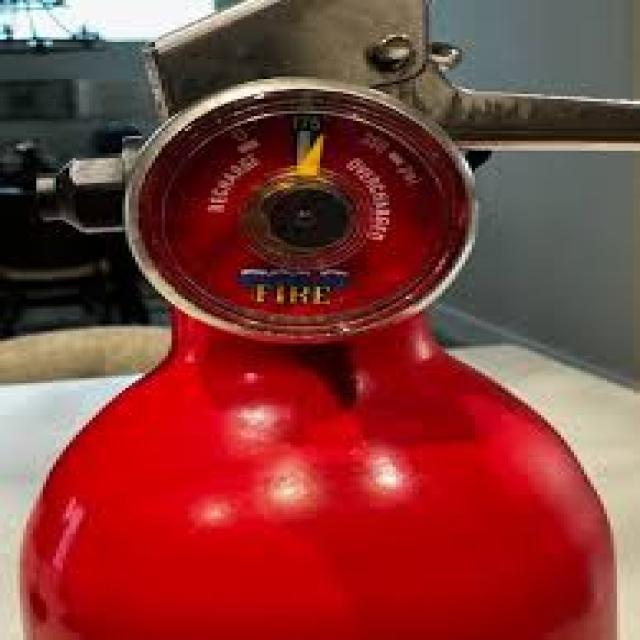pressure gauge: (126, 79, 474, 341)
